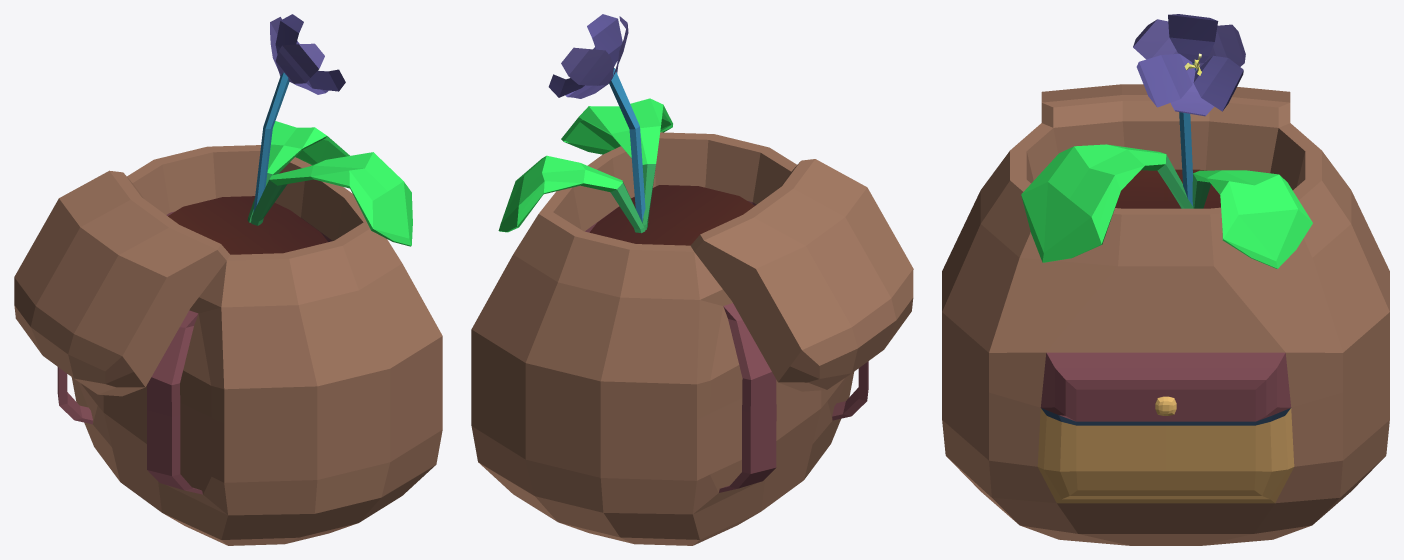
File: Bag.Pat.fbx
3 views of the same model, side by side, from view 1: azimuth 30°, elevation 25°; view 2: azimuth 150°, elevation 25°; view 3: azimuth 270°, elevation 25° (orthographic). The views are drawn at different scales.
Parts seen in each view (by area): view 1: Bag.Pat; view 2: Bag.Pat; view 3: Bag.Pat.
Boxes of the visible parts, box(x1,y1,x2,y2) form: Bag.Pat: box(14, 14, 442, 545); Bag.Pat: box(471, 14, 913, 545); Bag.Pat: box(942, 14, 1389, 545).
Size of the model in its own units: 70.39 by 88.73 by 68.84.
